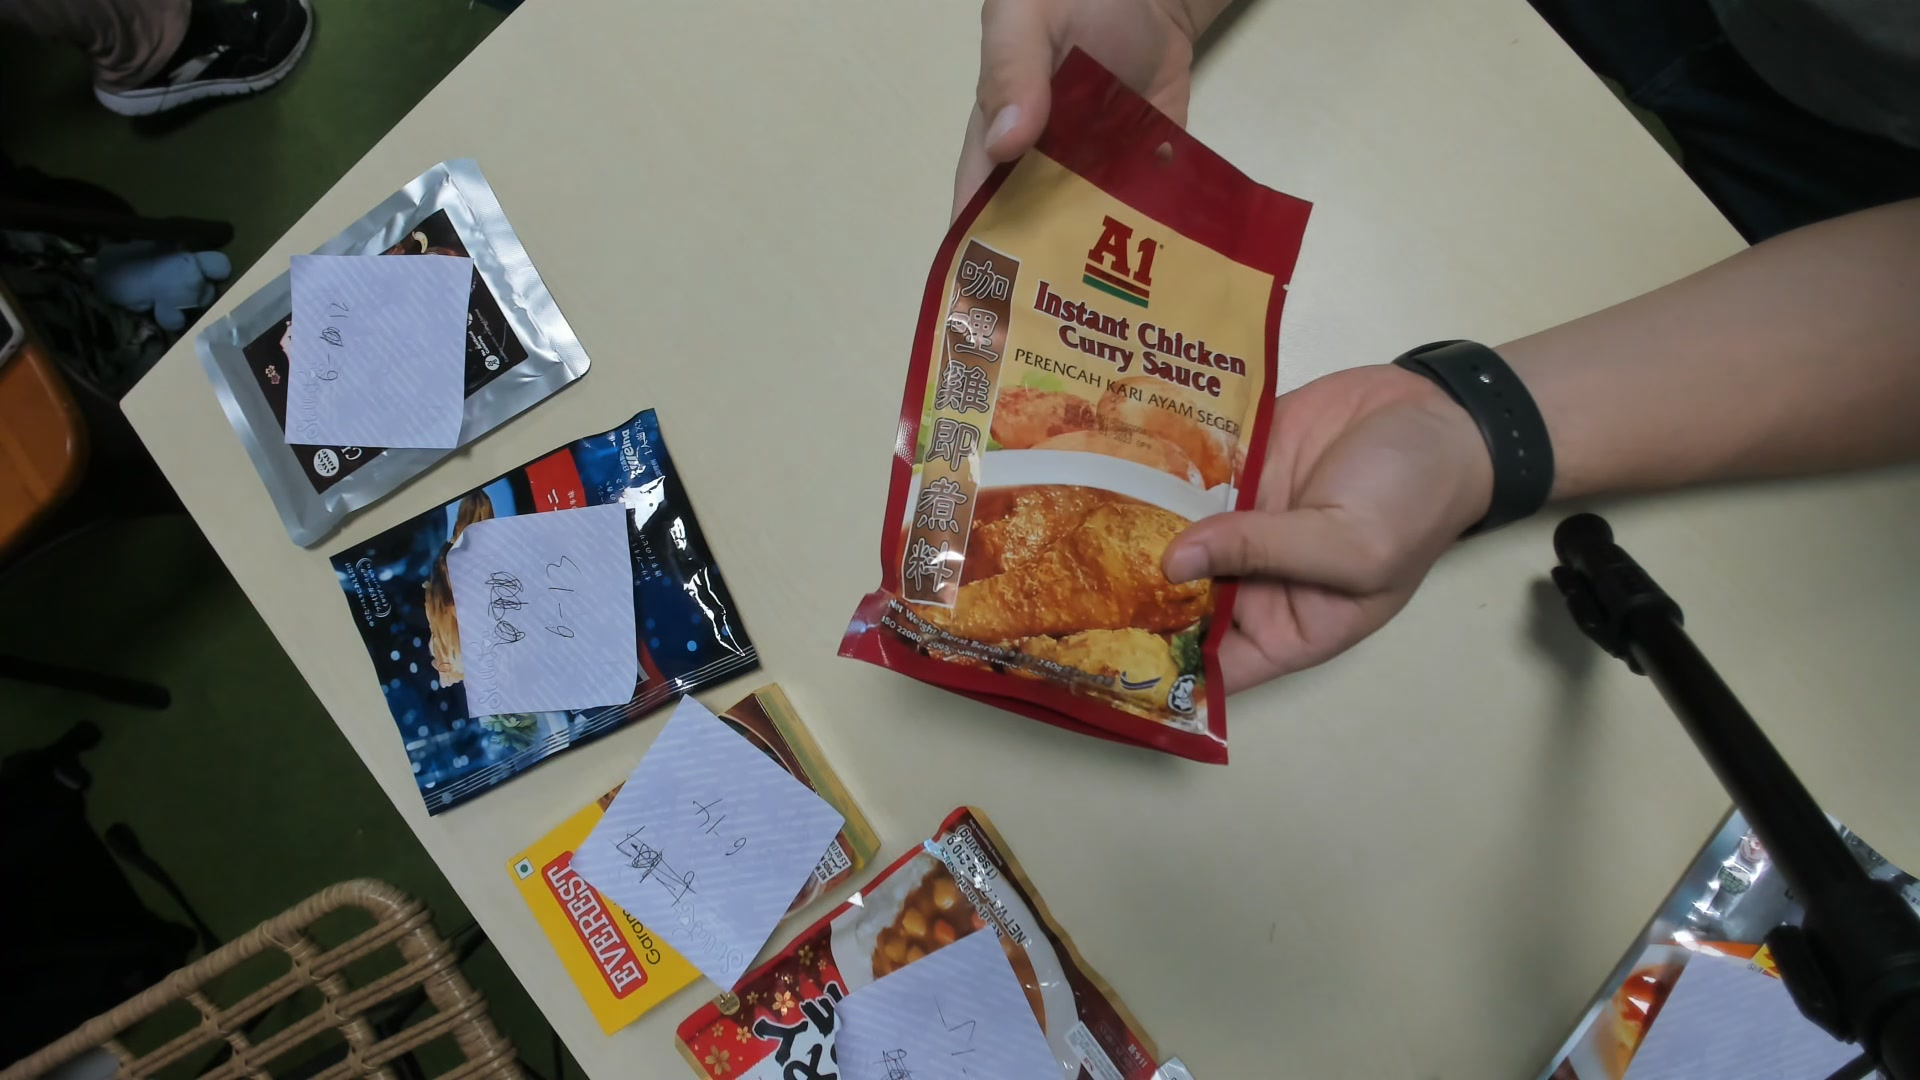CurryPastePowderSauce_200-299g_Halal_NonHealthy: (872, 49, 1298, 758)
